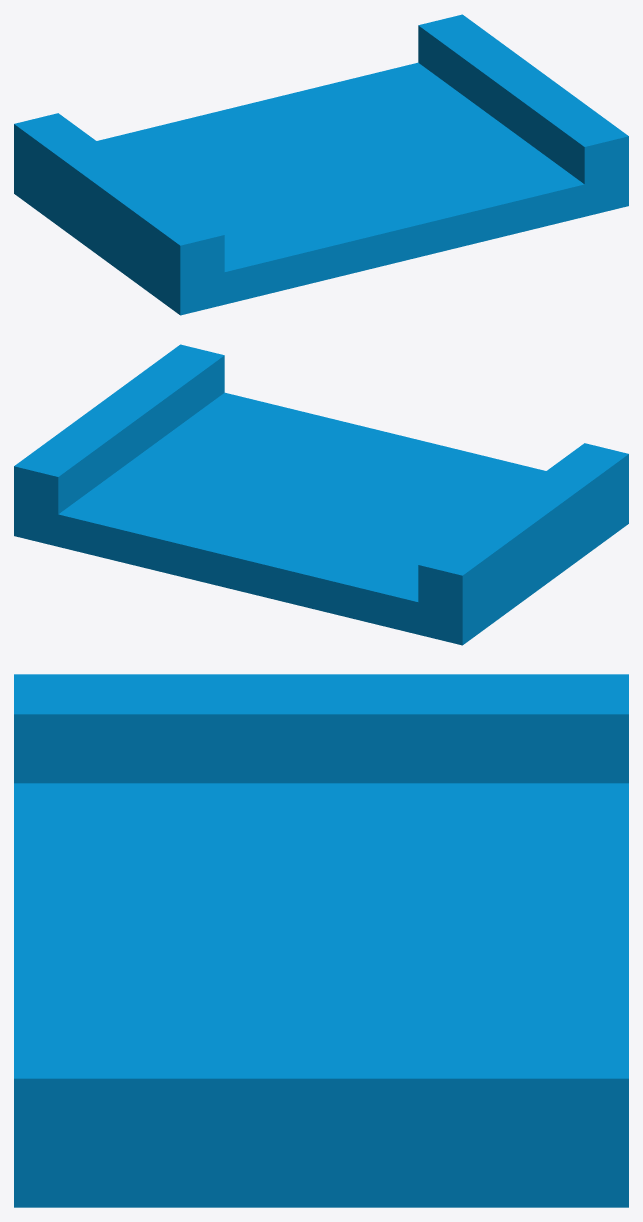
Rendered from Bridge_08.fbx.
The picture shows the model from 3 angles, top to bottom: view 1: azimuth 30°, elevation 25°; view 2: azimuth 150°, elevation 25°; view 3: azimuth 270°, elevation 25°; orthographic projection. The views are drawn at different scales.
Visible parts, largest first — view 1: Bridge_08; view 2: Bridge_08; view 3: Bridge_08.
Part boxes in pixels (x1,y1,x2,y2): Bridge_08: [14, 14, 628, 315]; Bridge_08: [14, 344, 628, 645]; Bridge_08: [14, 674, 628, 1207].
Bounding box in the file's own units: 15.31 × 2.28 × 9.84.
